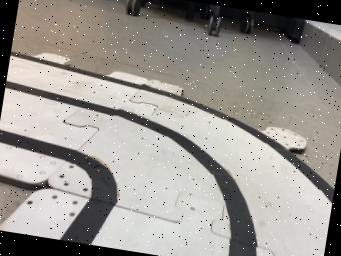street: (0, 51, 333, 256), (0, 51, 333, 256), (0, 51, 333, 256), (0, 51, 333, 256), (0, 51, 333, 256), (0, 51, 333, 256)
